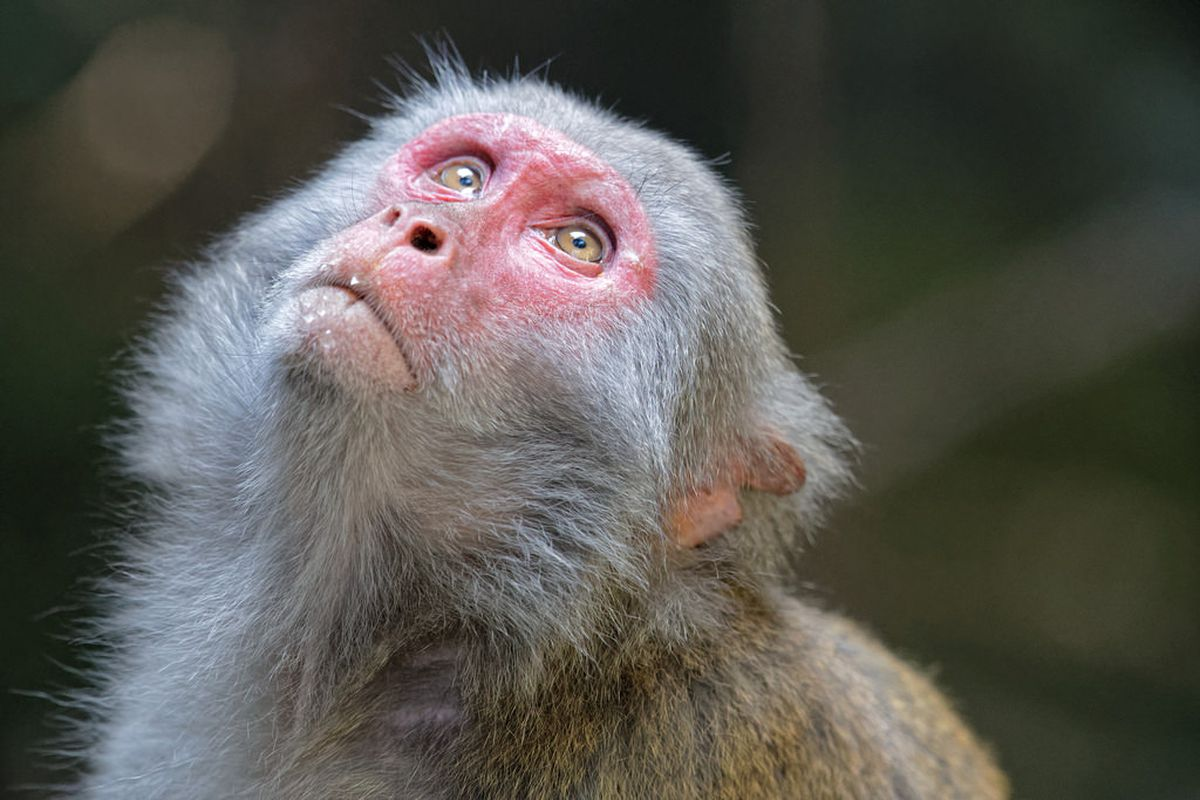monkey: (51, 51, 1035, 800)
